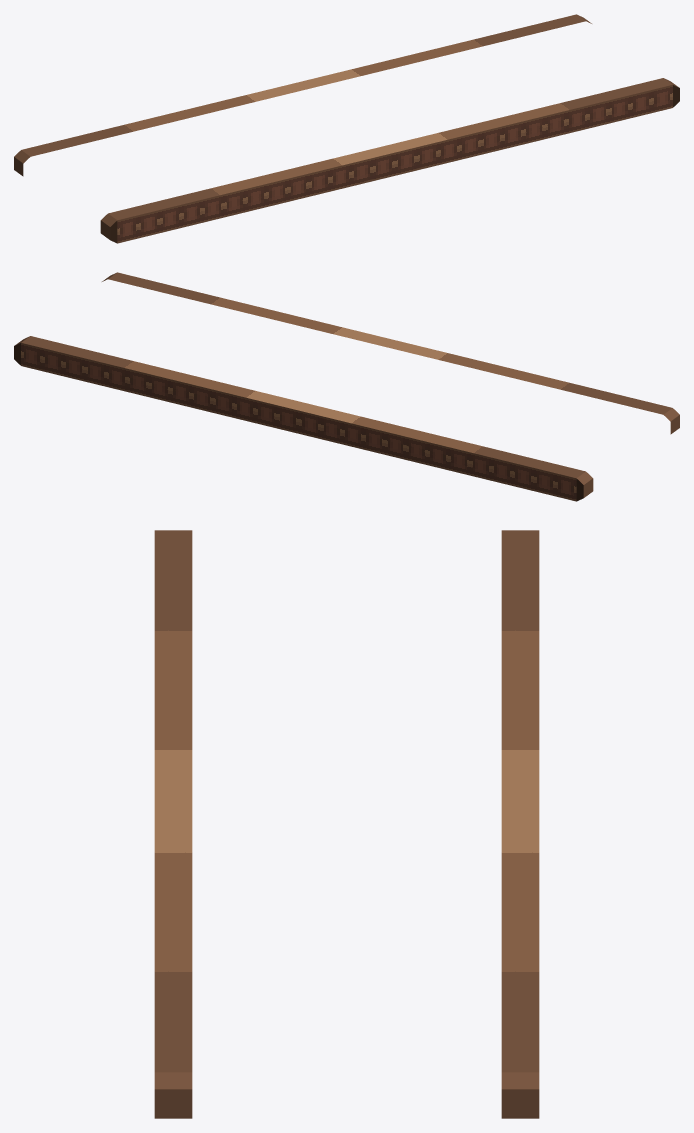
Rendered from ConveyerLargeFrame.glb.
3 renders of one model, top to bottom at view 1: azimuth 30°, elevation 25°; view 2: azimuth 150°, elevation 25°; view 3: azimuth 270°, elevation 25°, orthographic. The views are drawn at different scales.
Visible parts, largest first — view 1: ConveyerLargeFrame; view 2: ConveyerLargeFrame; view 3: ConveyerLargeFrame.
Boxes of the visible parts, x1=… form: ConveyerLargeFrame: x1=14, y1=14, x2=679, y2=243; ConveyerLargeFrame: x1=14, y1=272, x2=679, y2=501; ConveyerLargeFrame: x1=154, y1=530, x2=539, y2=1118.
Bounding box in the file's own units: 5.13 × 0.2 × 1.5.
2 materials, 2 textured.
